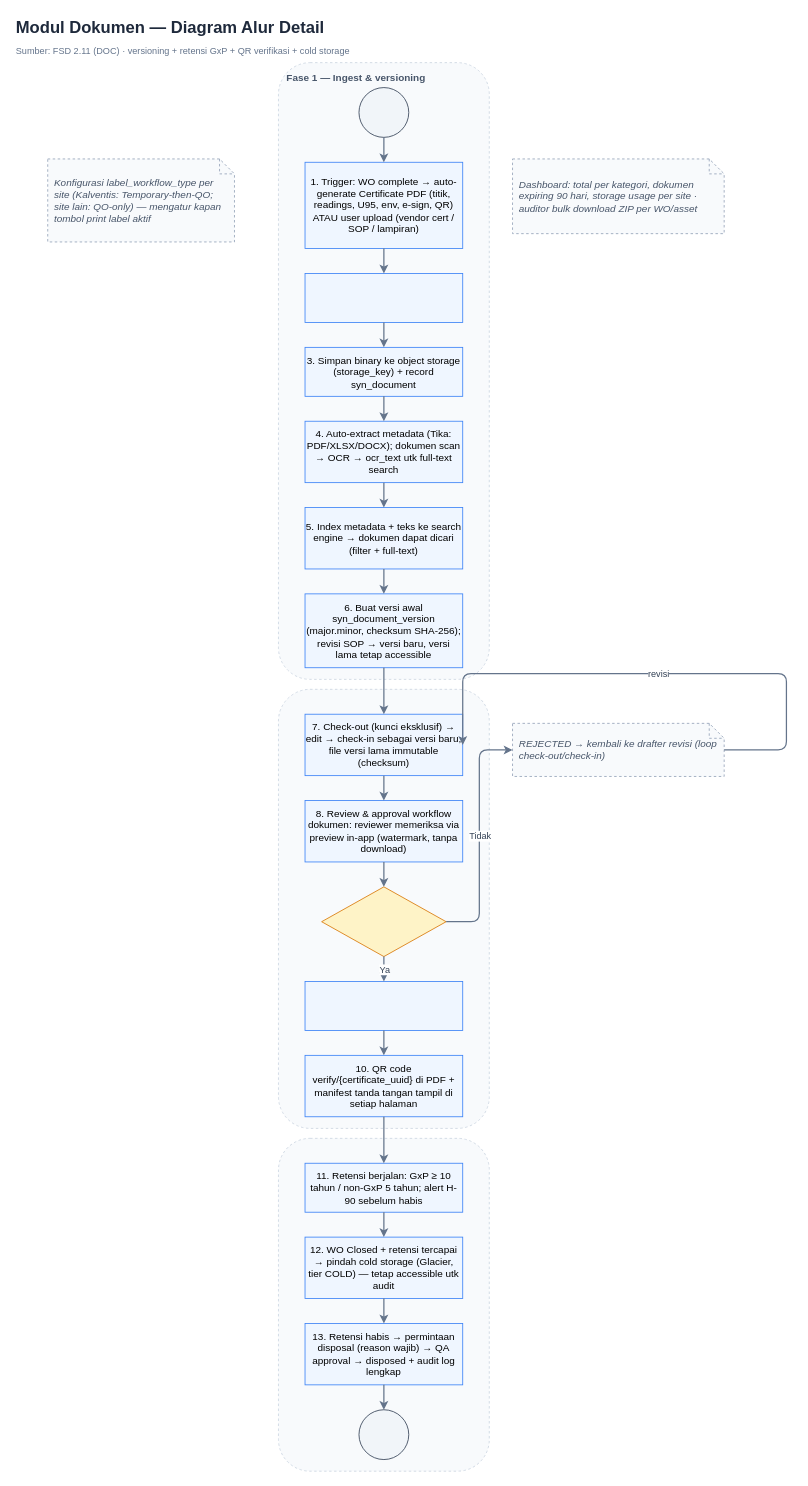
This 808x1486 diagram has some shape labels left out. Each missing label, with the box of its shape:
2. Request nomor dokumen ke modul DNG → document_number unik: (304, 273, 463, 322)
9. Tetapkan effective_date → versi ACTIVE; versi sebelumnya otomatis superseded: (304, 981, 463, 1030)
Disetujui?: (321, 886, 446, 957)
Fase 2 — Review, approval & efektif: (278, 688, 489, 1128)
Fase 3 — Retensi & disposal: (278, 1138, 489, 1471)
Mulai: (358, 87, 409, 137)
Selesai: (358, 1409, 409, 1460)
